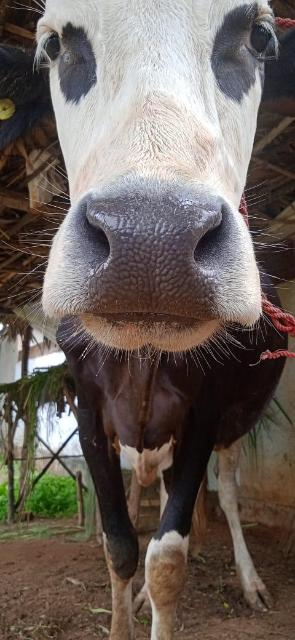Muzzle: (73, 200, 221, 314)
